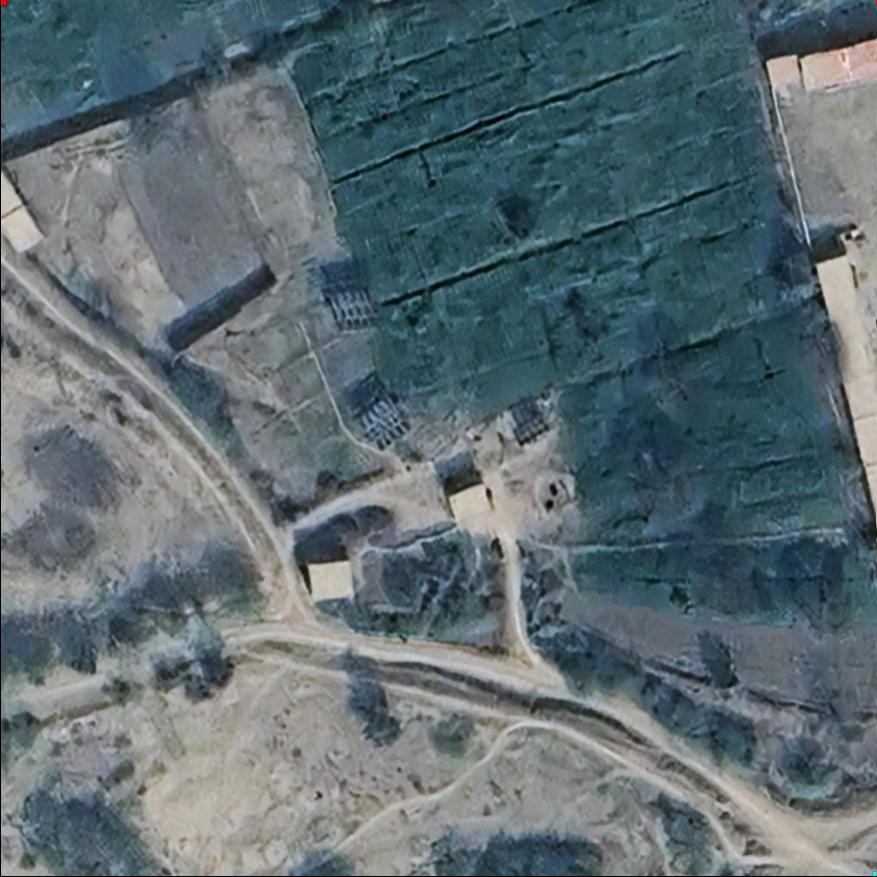Solarpanel: (347, 389, 417, 458), (317, 283, 386, 337), (508, 411, 556, 454)
